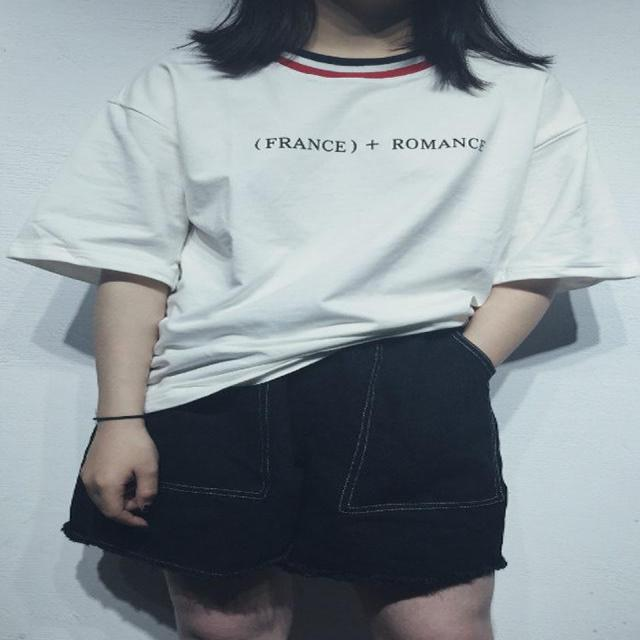long sleeve top: (11, 31, 635, 410)
shorts: (68, 320, 502, 567)
